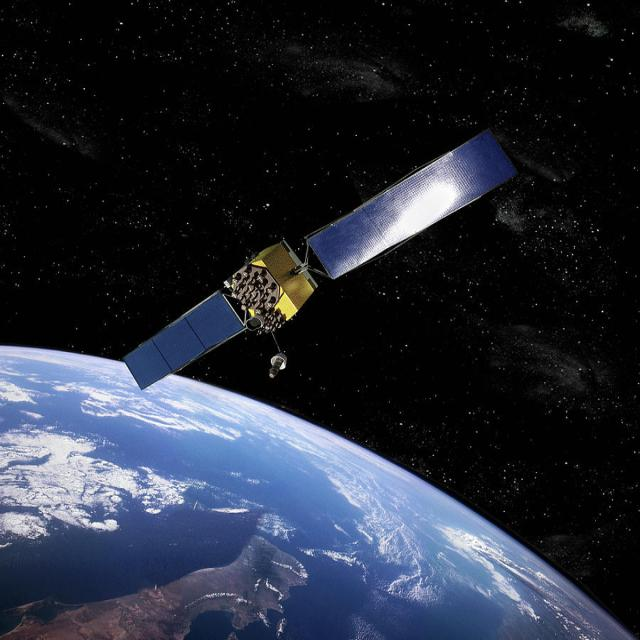satellite: (121, 119, 520, 397)
